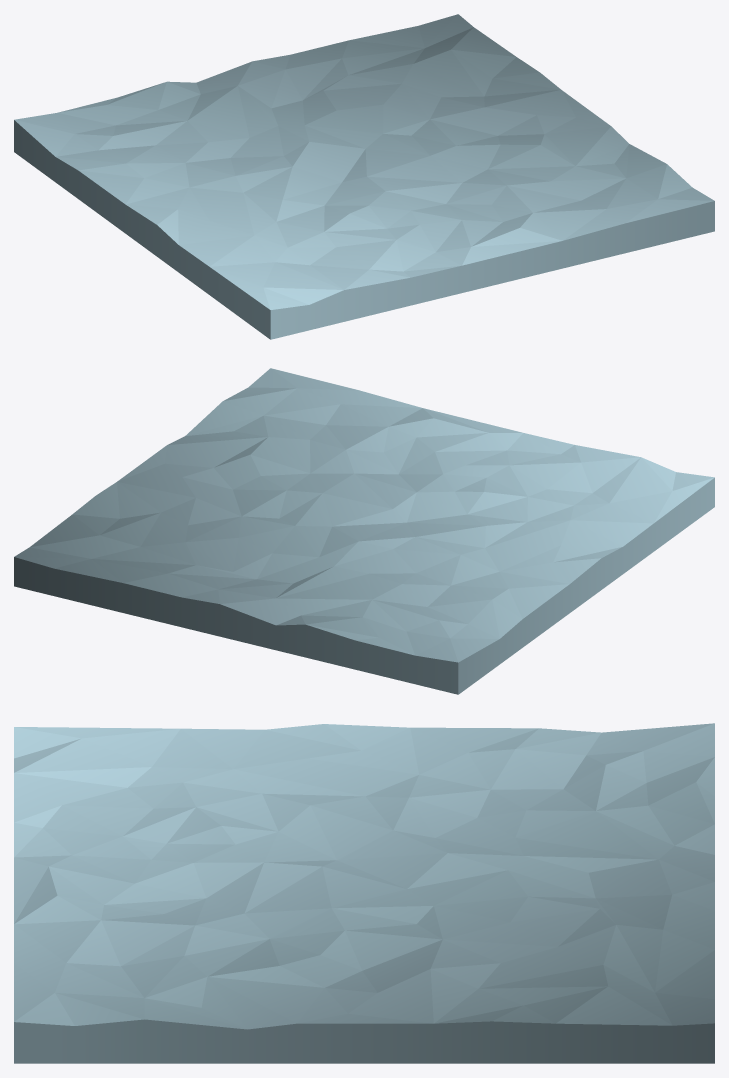
File: water-location-secret-island.glb
3 renders of one model, top to bottom at view 1: azimuth 30°, elevation 25°; view 2: azimuth 150°, elevation 25°; view 3: azimuth 270°, elevation 25°, orthographic. The views are drawn at different scales.
Visible parts, largest first — view 1: water location secret Island; view 2: water location secret Island; view 3: water location secret Island.
Part boxes in pixels (x1,y1,x2,y2): water location secret Island: [14, 14, 714, 339]; water location secret Island: [14, 368, 714, 694]; water location secret Island: [14, 723, 714, 1063].
Size of the model in its own units: 44 by 3.37 by 44.
Materials: 1 (1 with a texture image).
